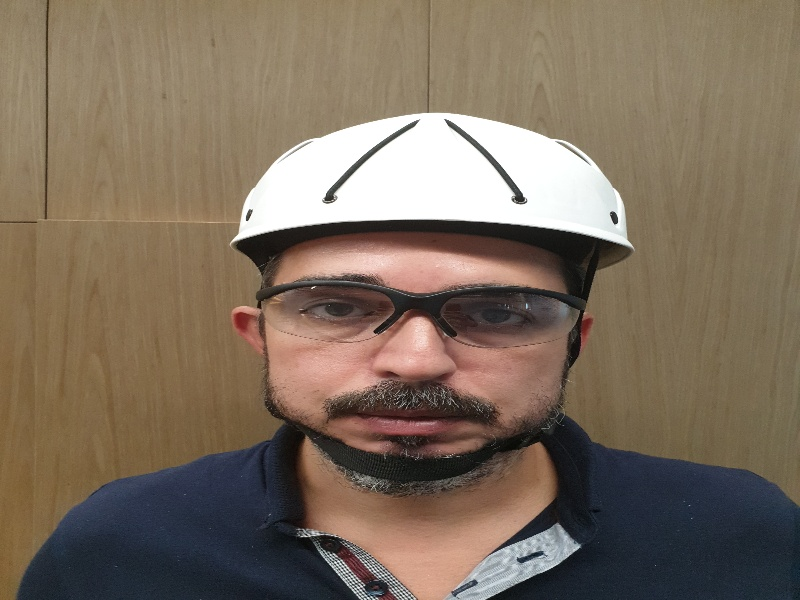Baret: (229, 112, 637, 254)
Gozluk: (257, 284, 589, 349)
